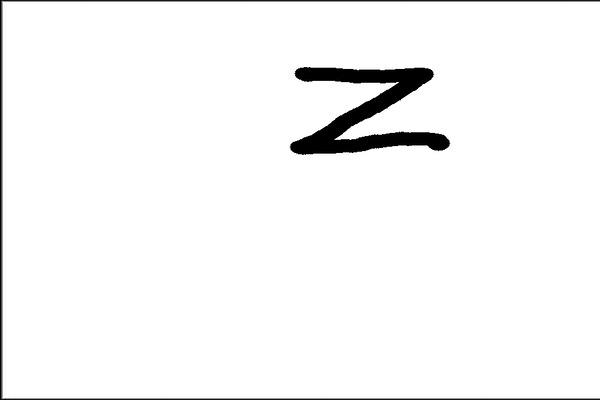Z: (283, 50, 452, 165)
